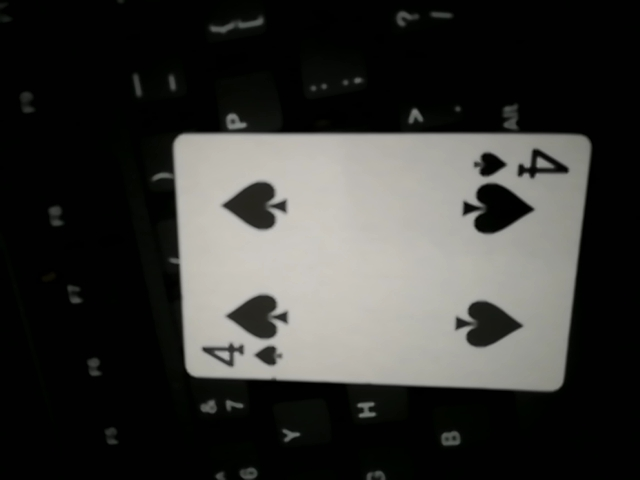ht 4: (169, 128, 594, 396)
